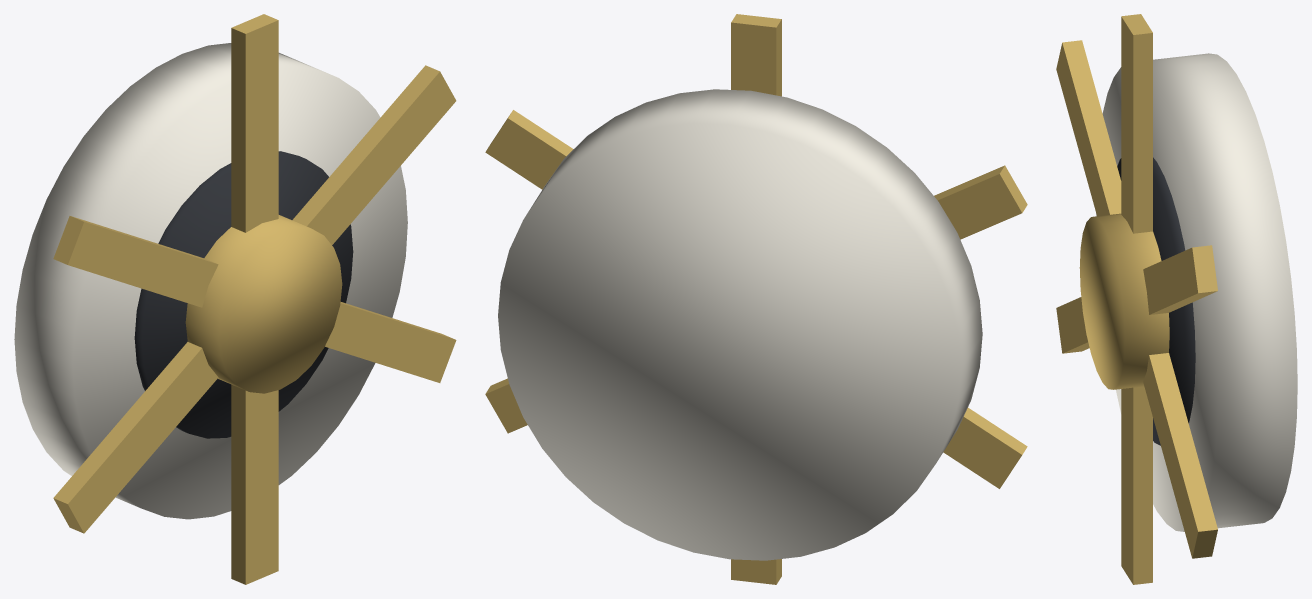
The model's file is spool0.glb.
3 renders of one model, left to right at view 1: azimuth 30°, elevation 25°; view 2: azimuth 150°, elevation 25°; view 3: azimuth 270°, elevation 25°, orthographic.
Parts seen in each view (by area): view 1: log_roll_0, log_hub_0, log_flange_0, log_spoke_0_4, log_spoke_0_0, log_spoke_0_1, log_spoke_0_3, log_spoke_0_5, log_spoke_0_2; view 2: log_roll_0, log_spoke_0_5, log_spoke_0_0, log_spoke_0_1, log_spoke_0_4, log_spoke_0_2, log_spoke_0_3; view 3: log_roll_0, log_hub_0, log_spoke_0_0, log_spoke_0_2, log_spoke_0_3, log_spoke_0_5, log_flange_0, log_spoke_0_1, log_spoke_0_4.
Boxes of the visible parts, bbox=[...] form: log_roll_0: bbox=[14, 43, 407, 519]; log_hub_0: bbox=[185, 215, 342, 393]; log_flange_0: bbox=[134, 151, 353, 438]; log_spoke_0_4: bbox=[53, 342, 218, 533]; log_spoke_0_0: bbox=[231, 14, 278, 232]; log_spoke_0_1: bbox=[292, 65, 456, 244]; log_spoke_0_3: bbox=[231, 384, 278, 584]; log_spoke_0_5: bbox=[53, 216, 218, 307]; log_spoke_0_2: bbox=[325, 302, 456, 382]; log_roll_0: bbox=[498, 89, 982, 560]; log_spoke_0_5: bbox=[934, 165, 1027, 239]; log_spoke_0_0: bbox=[731, 14, 781, 96]; log_spoke_0_1: bbox=[485, 110, 573, 189]; log_spoke_0_4: bbox=[943, 407, 1027, 488]; log_spoke_0_2: bbox=[485, 378, 527, 433]; log_spoke_0_3: bbox=[731, 559, 781, 584]; log_roll_0: bbox=[1096, 53, 1297, 531]; log_hub_0: bbox=[1079, 213, 1169, 389]; log_spoke_0_0: bbox=[1121, 14, 1152, 233]; log_spoke_0_2: bbox=[1143, 353, 1217, 558]; log_spoke_0_3: bbox=[1121, 386, 1152, 584]; log_spoke_0_5: bbox=[1056, 40, 1121, 216]; log_flange_0: bbox=[1117, 157, 1195, 445]; log_spoke_0_1: bbox=[1143, 245, 1217, 314]; log_spoke_0_4: bbox=[1056, 297, 1089, 353].
Size of the model in its own units: 0.1041 by 0.118 by 0.047.
